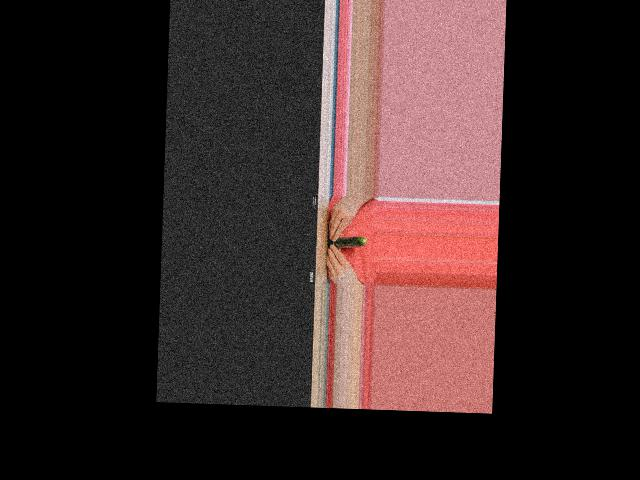cucumber: (327, 234, 366, 248)
